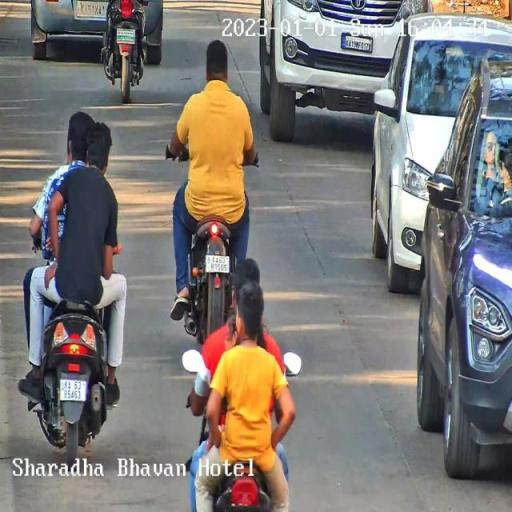tripple riding: (180, 256, 310, 487), (24, 108, 130, 314)
